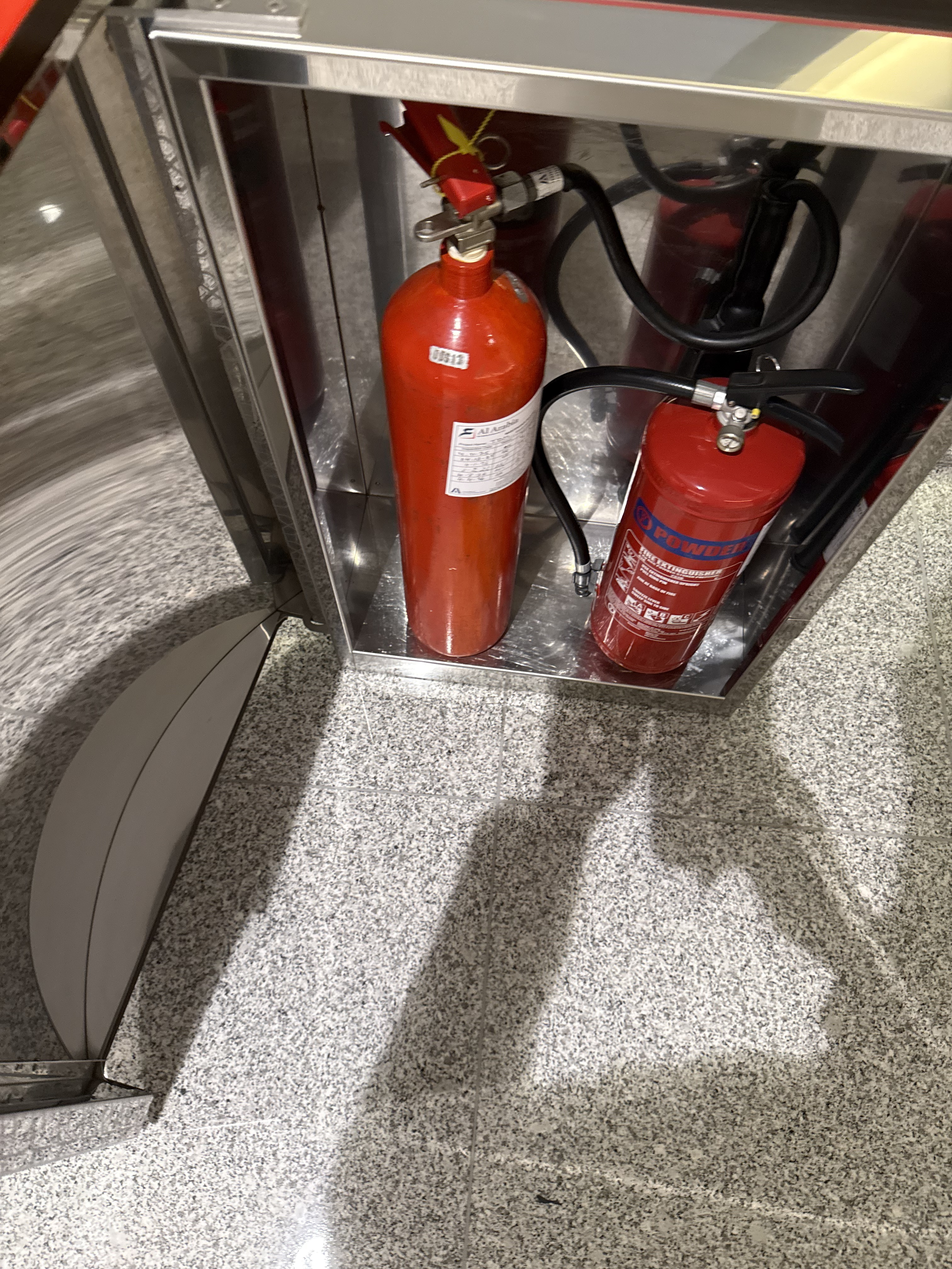fire_extinguisher: (375, 100, 561, 659), (585, 356, 864, 676), (602, 133, 839, 483), (603, 141, 772, 481)
